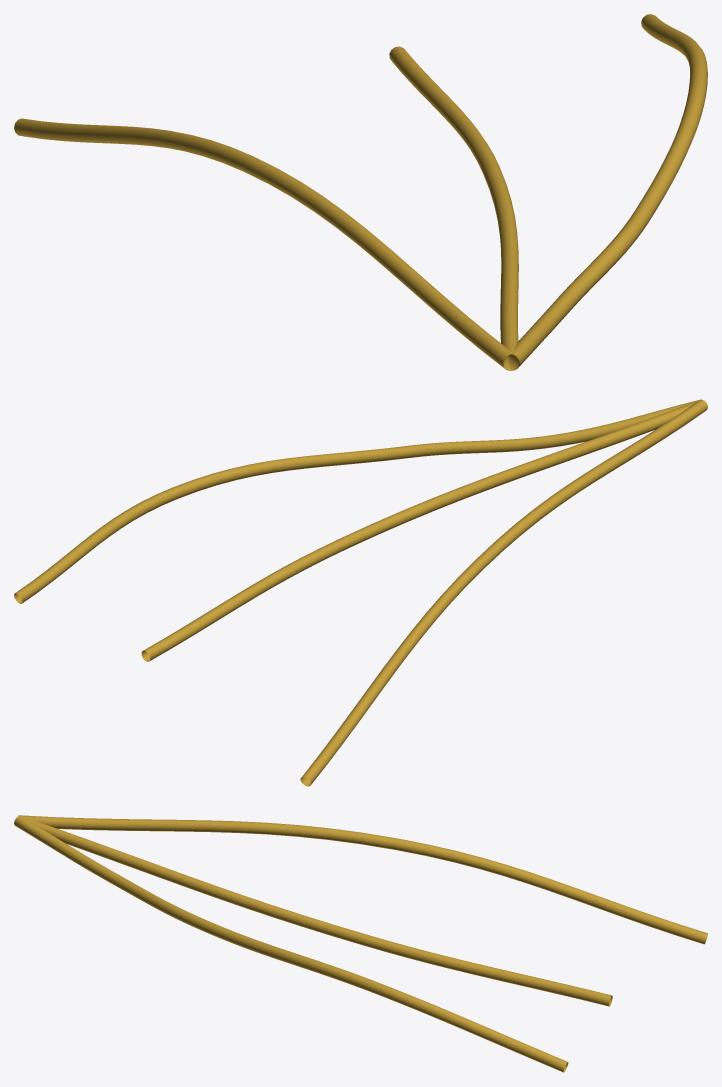
3 views of the same model, one above another, from view 1: azimuth 30°, elevation 25°; view 2: azimuth 150°, elevation 25°; view 3: azimuth 270°, elevation 25° (orthographic). The views are drawn at different scales.
Parts seen in each view (by area): view 1: 左侧正中神经指掌侧总神经; view 2: 左侧正中神经指掌侧总神经; view 3: 左侧正中神经指掌侧总神经.
Part boxes in pixels (x1=…): 左侧正中神经指掌侧总神经: x1=14, y1=14, x2=707, y2=370; 左侧正中神经指掌侧总神经: x1=14, y1=399, x2=707, y2=786; 左侧正中神经指掌侧总神经: x1=14, y1=815, x2=707, y2=1072.
Bounding box in the file's own units: 0.0543 × 0.016 × 0.0874.
